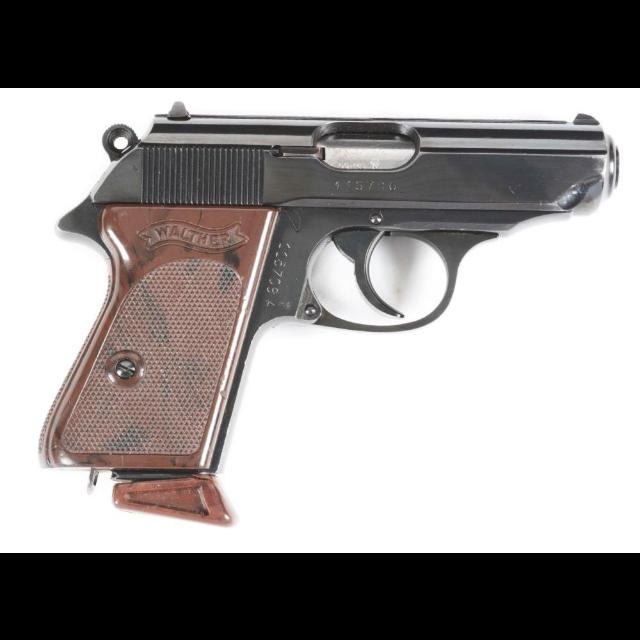handgun: (32, 96, 624, 530)
